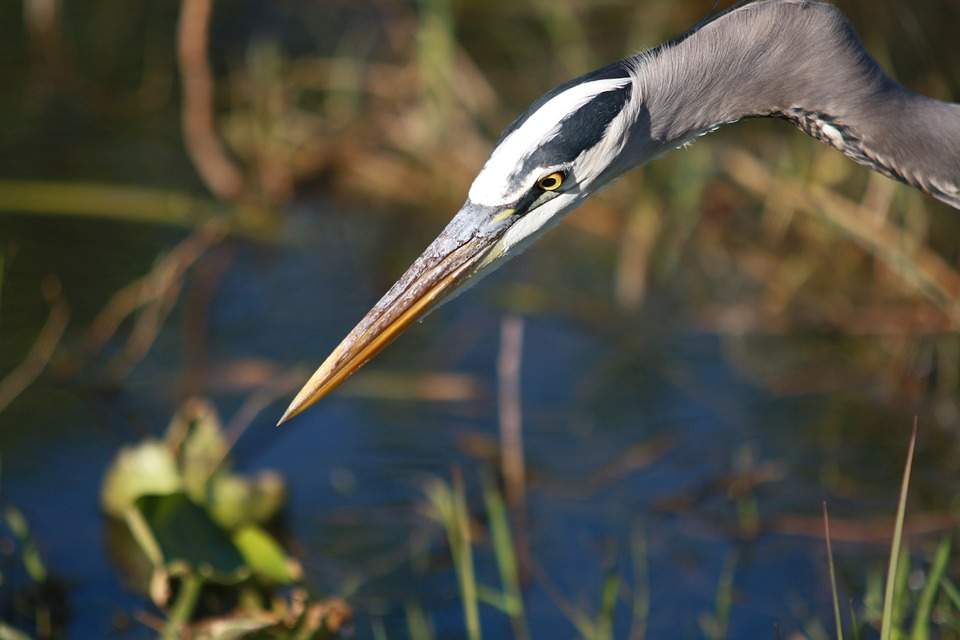heron: (263, 10, 960, 455)
